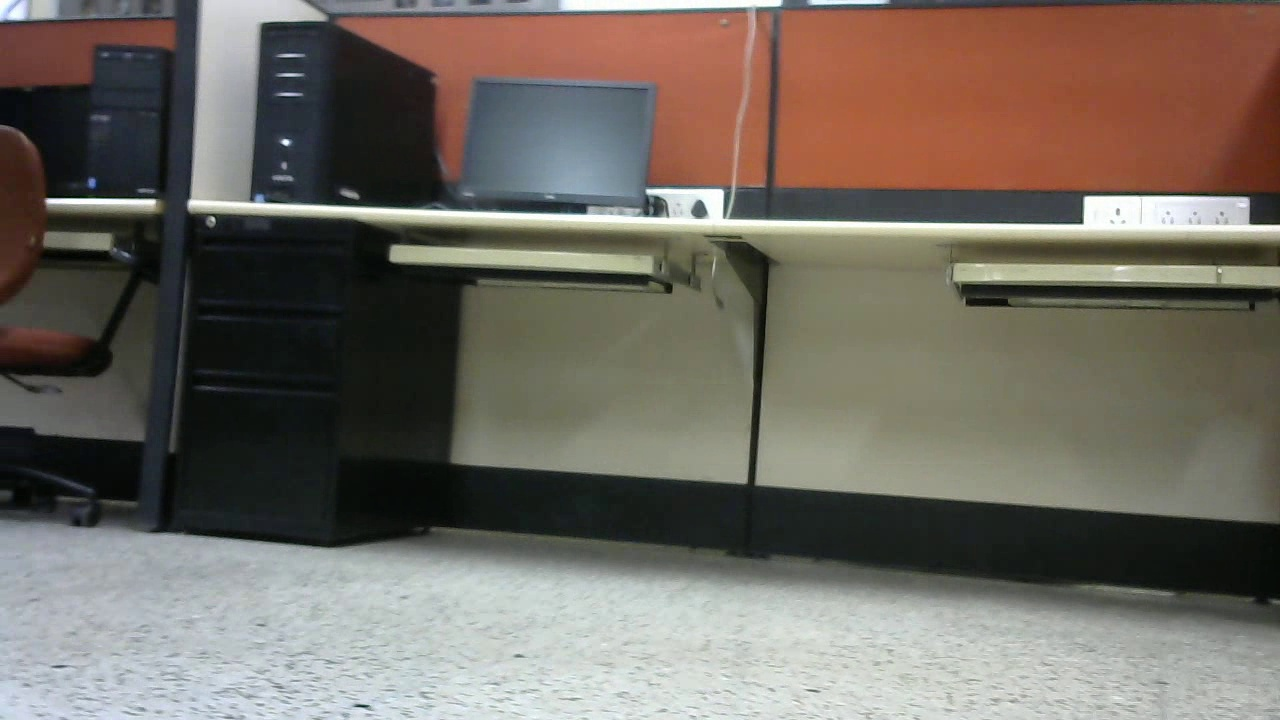chair: (1, 119, 154, 529)
